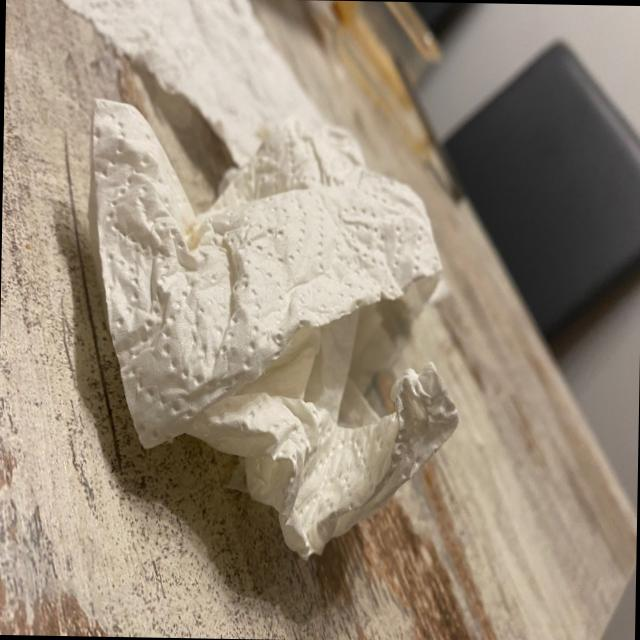organic waste: (80, 91, 468, 556)
